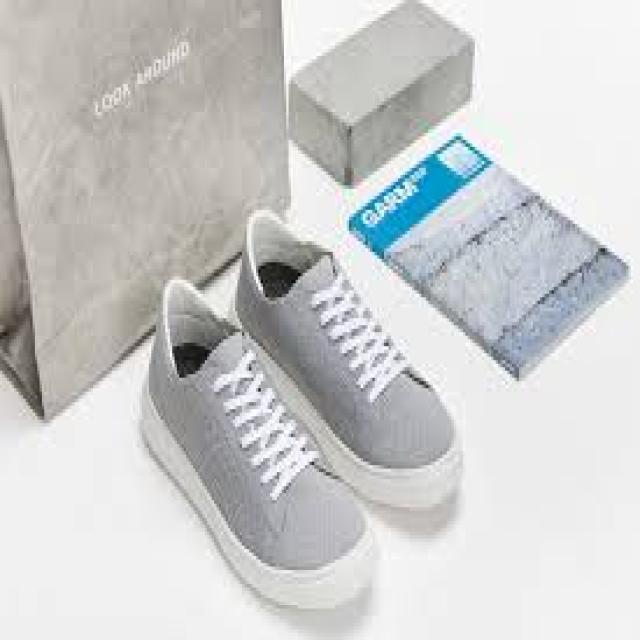shoe: (134, 264, 381, 614), (231, 184, 477, 519)
